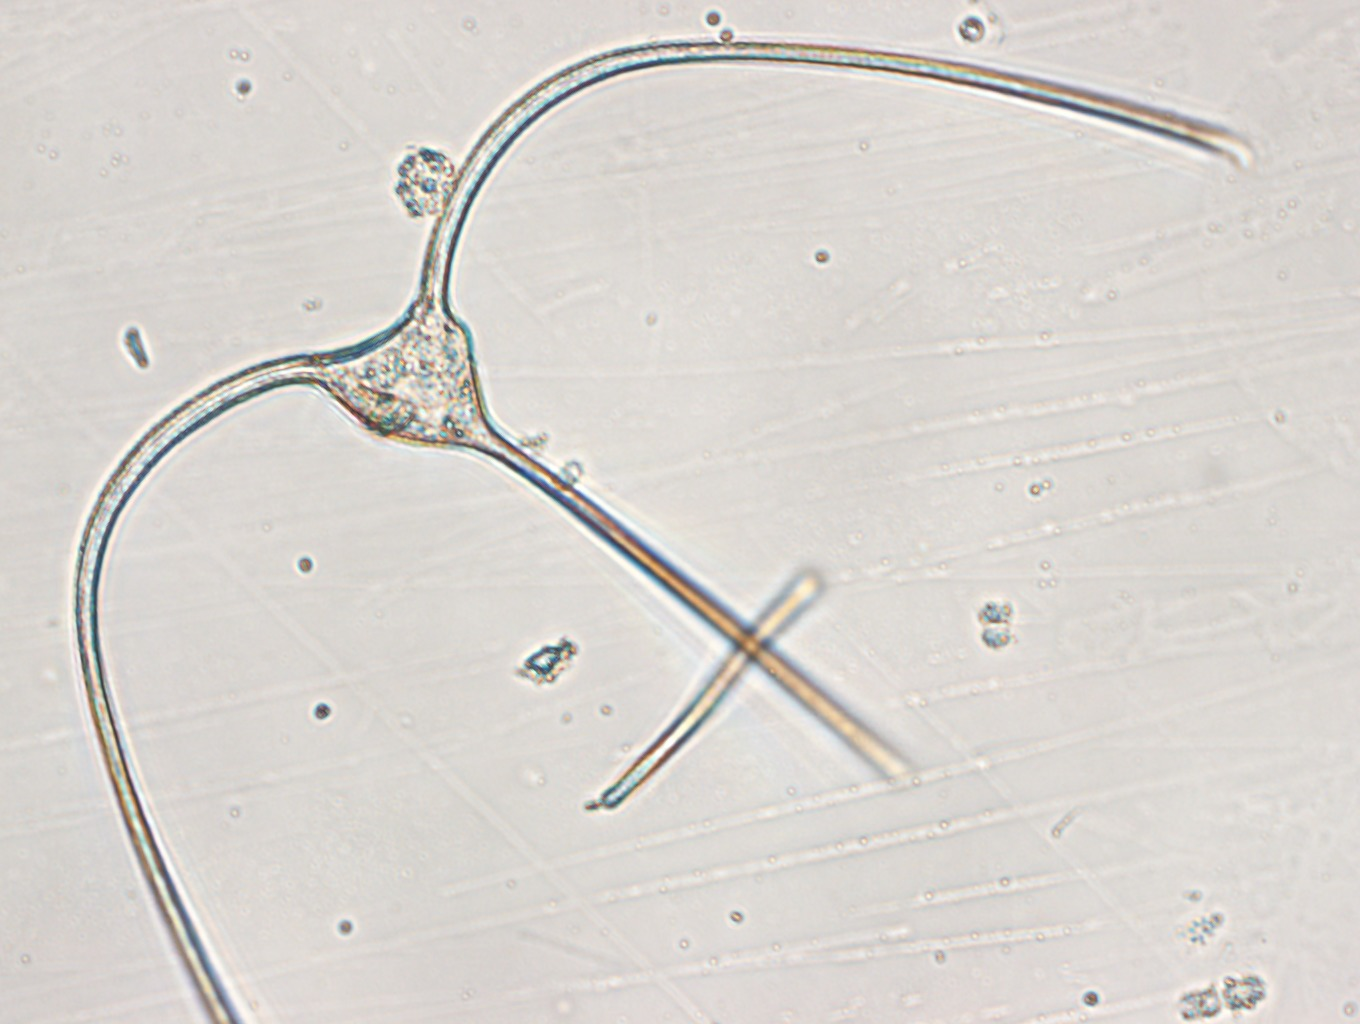ceratium trichoceros: (71, 28, 1258, 1024)
